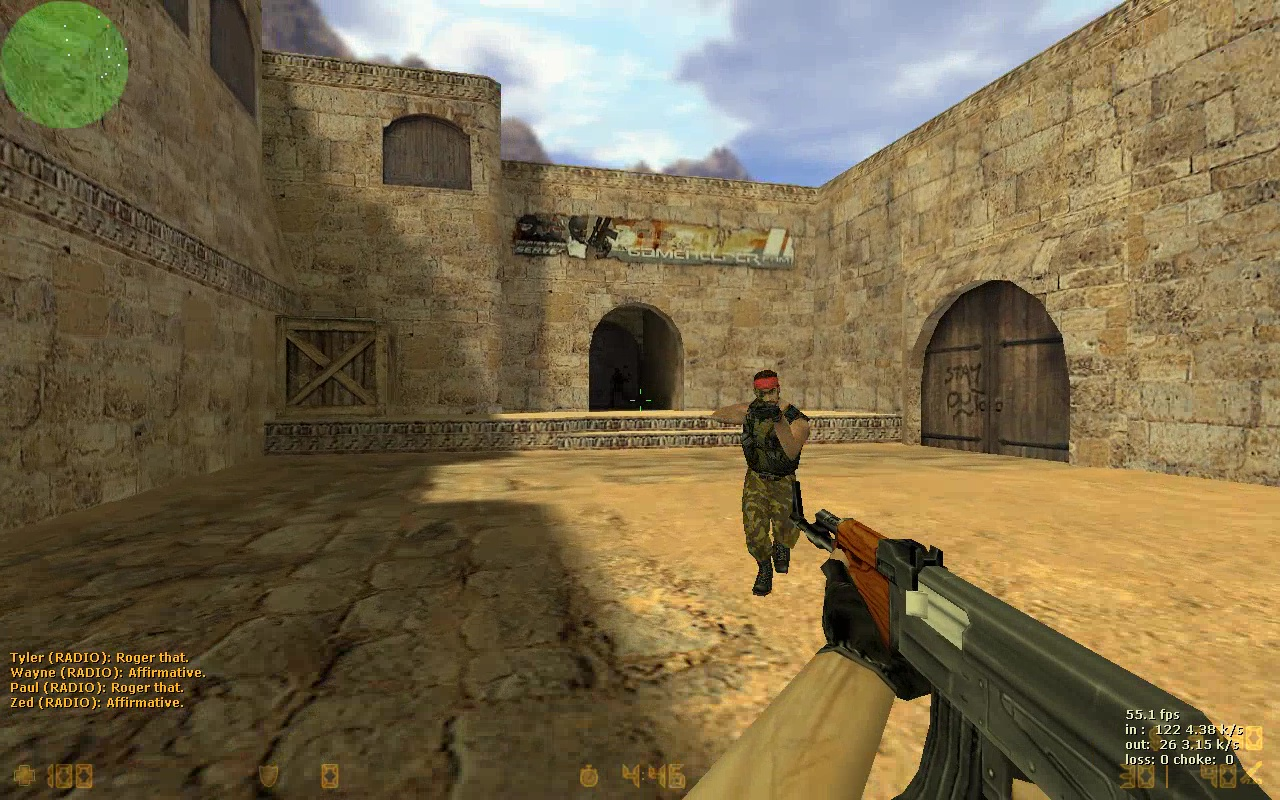terr1: (710, 371, 812, 597)
